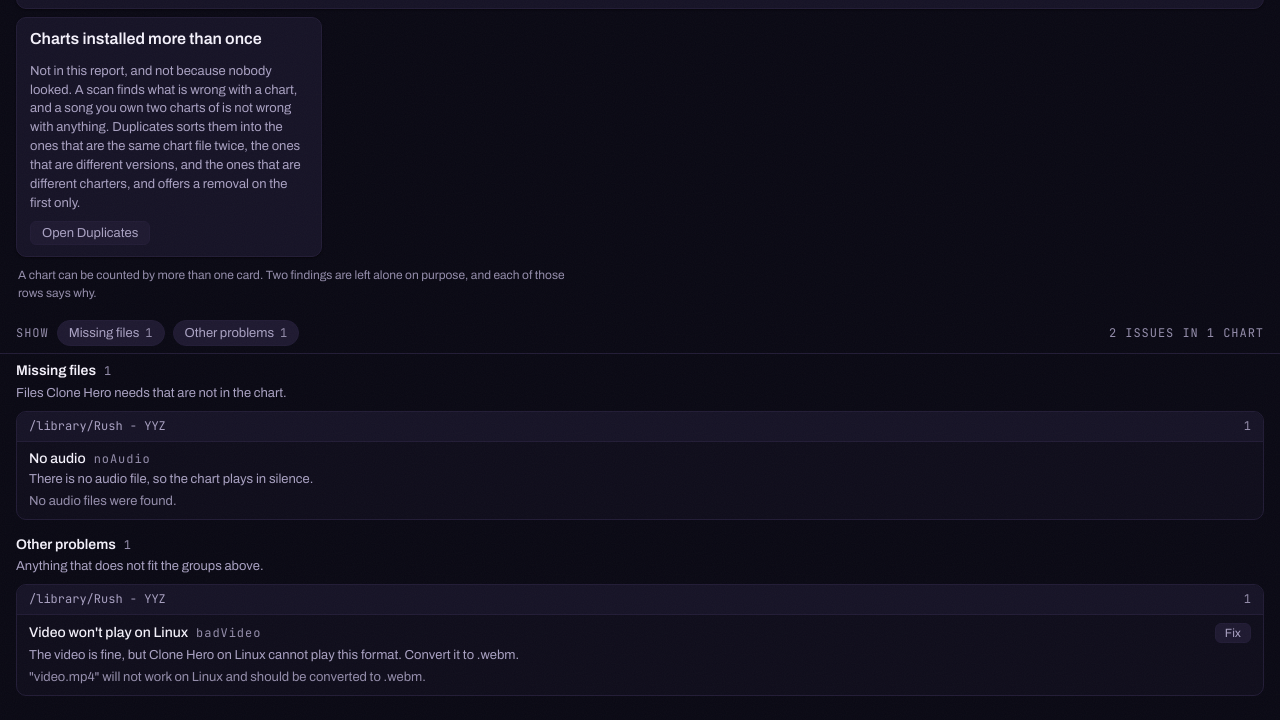
Test case: Tools: confirming a repair › names the chart and the exact file, and how long a conversion takes
(page scrolled)
Click the button with aria-label "Fix Video won't play".
click(1233, 633)  # box x1=1215 y1=623 x2=1251 y2=643
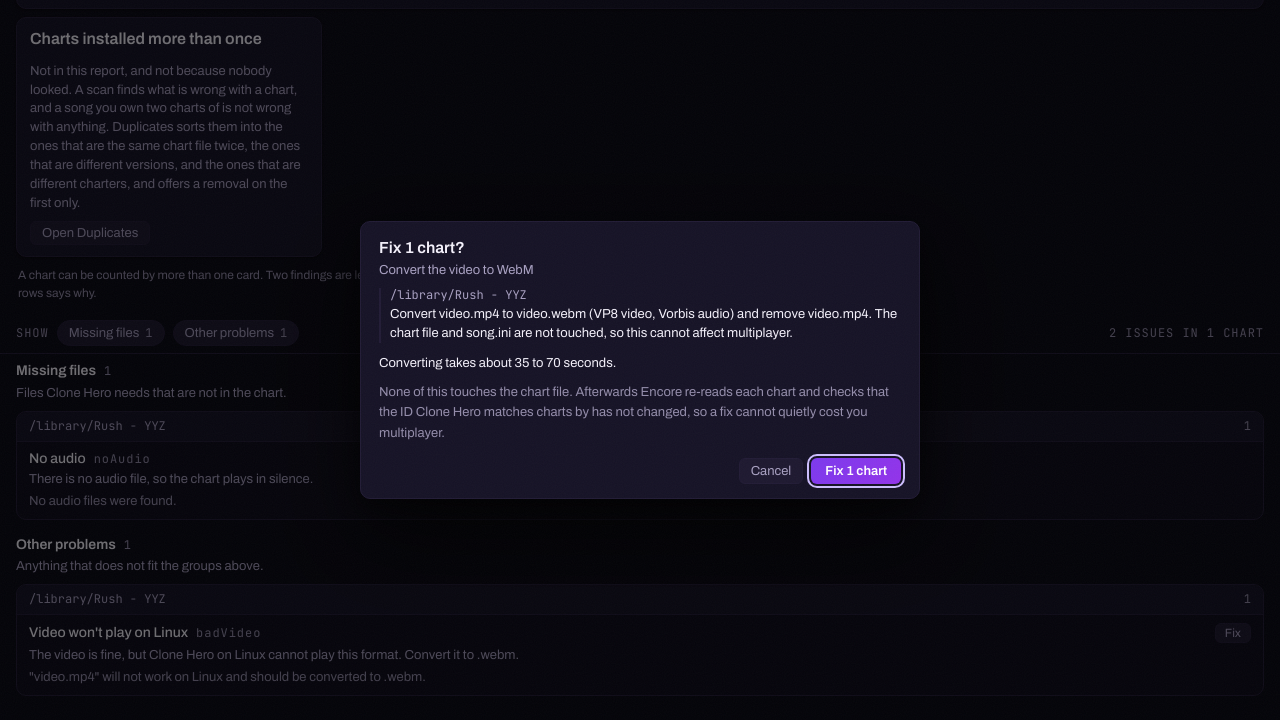
Now the text "/library/Rush - YYZ" is shown, box x1=390 y1=288 x2=527 y2=303
Now the text "Convert video.mp4 to video.webm" shows "remove video.mp4", box x1=390 y1=307 x2=897 y2=340
Now the text "Converting takes about 35 to 70 seconds." is shown, box x1=379 y1=356 x2=616 y2=370
